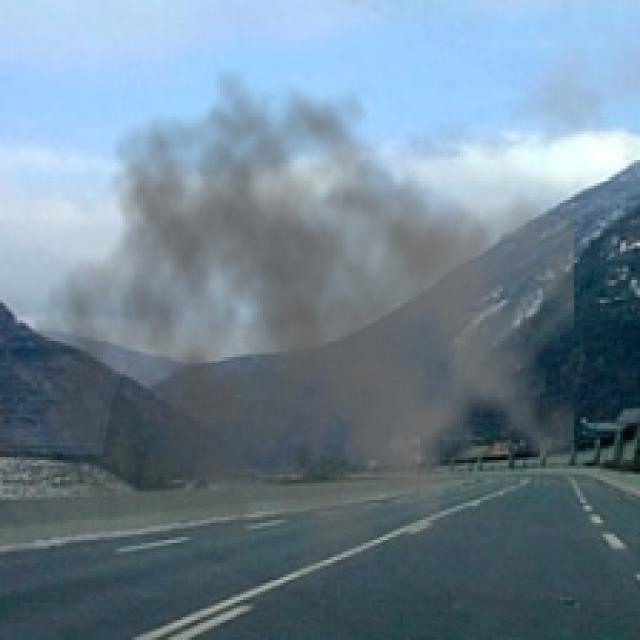Smoke: (32, 65, 574, 620)
